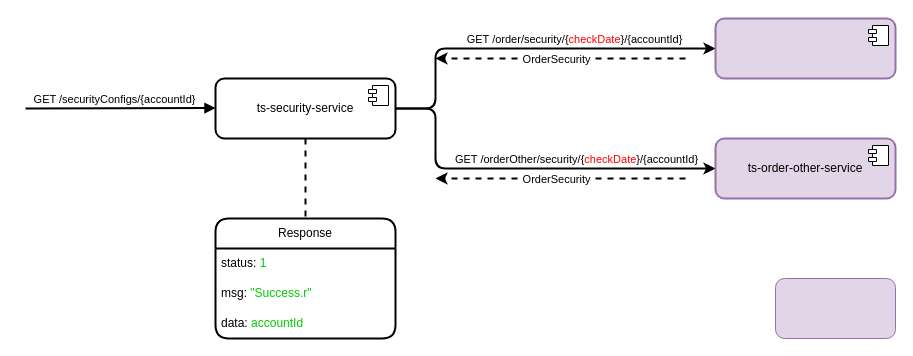
This 913x356 diagram has some shape labels left out. Each missing label, with the centre of its shape:
ts-order-service: (805,48)
WireMock: (835,308)
